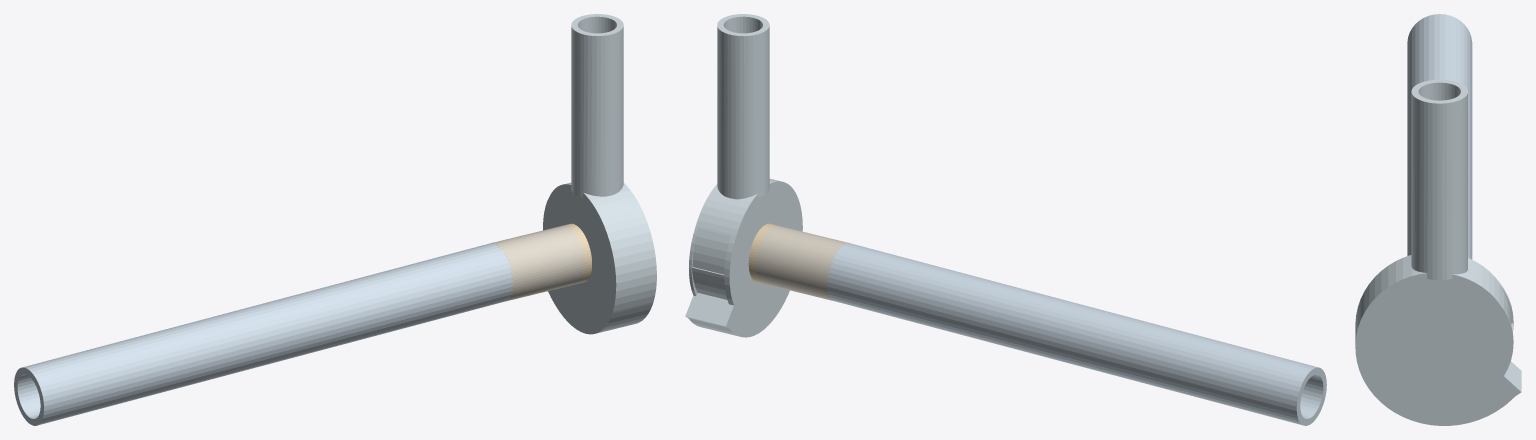
File: L392_SW2026_FOUR_NATIVE_EDUCATIONAL_CAD_ONLY.glb
The picture shows the model from 3 angles, left to right: view 1: azimuth 30°, elevation 25°; view 2: azimuth 150°, elevation 25°; view 3: azimuth 270°, elevation 25°; orthographic projection. The views are drawn at different scales.
Parts seen in each view (by area): view 1: SLURRY-PUMP-01_NATIVE_L392_L370_SEG02_EDU_NO_B64_WET_MATE, SLURRY-PUMP-01_NATIVE_L392_L374B_TWO_PORT_VOLUTE_EDU_NO_B64_, SLURRY-PUMP-01_NATIVE_L392_L358_SOURCE_ANGLE_EDU_NO_B64_WET_; view 2: SLURRY-PUMP-01_NATIVE_L392_L370_SEG02_EDU_NO_B64_WET_MATE, SLURRY-PUMP-01_NATIVE_L392_L374B_TWO_PORT_VOLUTE_EDU_NO_B64_, SLURRY-PUMP-01_NATIVE_L392_L358_SOURCE_ANGLE_EDU_NO_B64_WET_; view 3: SLURRY-PUMP-01_NATIVE_L392_L374B_TWO_PORT_VOLUTE_EDU_NO_B64_, SLURRY-PUMP-01_NATIVE_L392_L370_SEG02_EDU_NO_B64_WET_MATE.
Boxes of the visible parts, x1,y1,x2,y2 form: SLURRY-PUMP-01_NATIVE_L392_L370_SEG02_EDU_NO_B64_WET_MATE: [14, 243, 512, 425]; SLURRY-PUMP-01_NATIVE_L392_L374B_TWO_PORT_VOLUTE_EDU_NO_B64_: [543, 14, 656, 334]; SLURRY-PUMP-01_NATIVE_L392_L358_SOURCE_ANGLE_EDU_NO_B64_WET_: [491, 225, 585, 301]; SLURRY-PUMP-01_NATIVE_L392_L370_SEG02_EDU_NO_B64_WET_MATE: [828, 243, 1326, 425]; SLURRY-PUMP-01_NATIVE_L392_L374B_TWO_PORT_VOLUTE_EDU_NO_B64_: [685, 14, 802, 337]; SLURRY-PUMP-01_NATIVE_L392_L358_SOURCE_ANGLE_EDU_NO_B64_WET_: [755, 225, 849, 300]; SLURRY-PUMP-01_NATIVE_L392_L374B_TWO_PORT_VOLUTE_EDU_NO_B64_: [1355, 79, 1521, 425]; SLURRY-PUMP-01_NATIVE_L392_L370_SEG02_EDU_NO_B64_WET_MATE: [1407, 14, 1472, 259].
Size of the model in its own units: 12.49 by 6.05 by 2.82.
